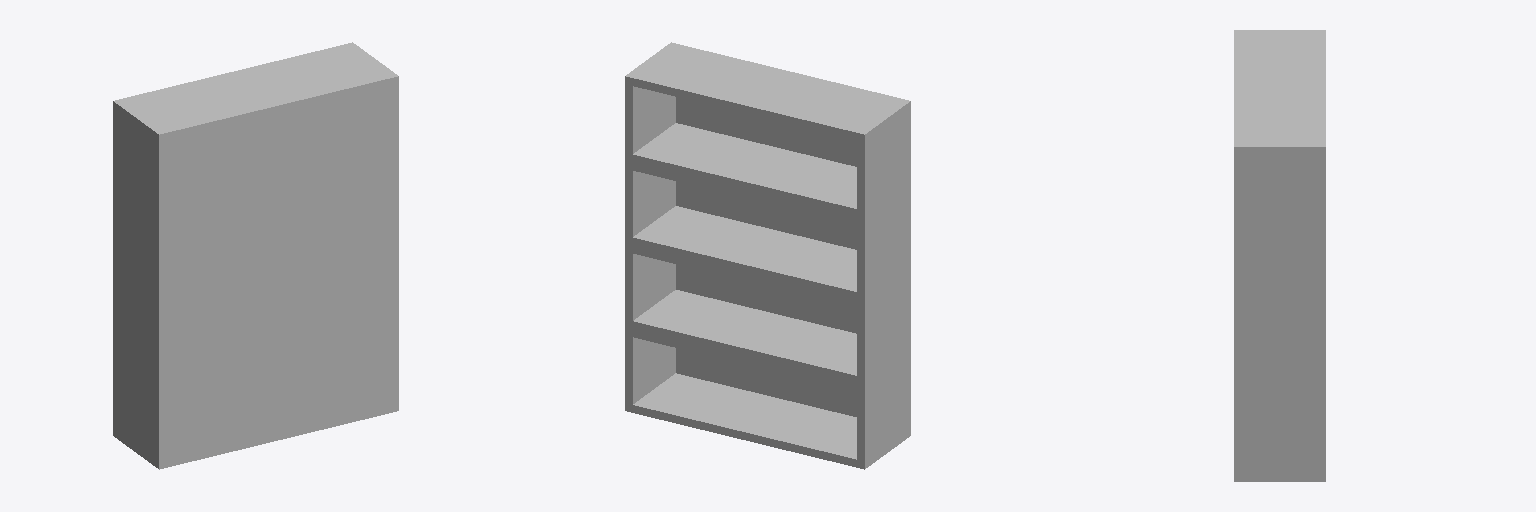
The model's file is shelf_2.obj.
The picture shows the model from 3 angles: view 1: azimuth 30°, elevation 25°; view 2: azimuth 150°, elevation 25°; view 3: azimuth 270°, elevation 25°; orthographic projection.
Visible parts, largest first — view 1: shelf_2; view 2: shelf_2; view 3: shelf_2.
Boxes of the visible parts, box(x1,y1,x2,y2) form: shelf_2: box(113, 42, 398, 469); shelf_2: box(625, 42, 910, 469); shelf_2: box(1234, 30, 1325, 481).
Bounding box in the file's own units: 3 × 4 × 1.